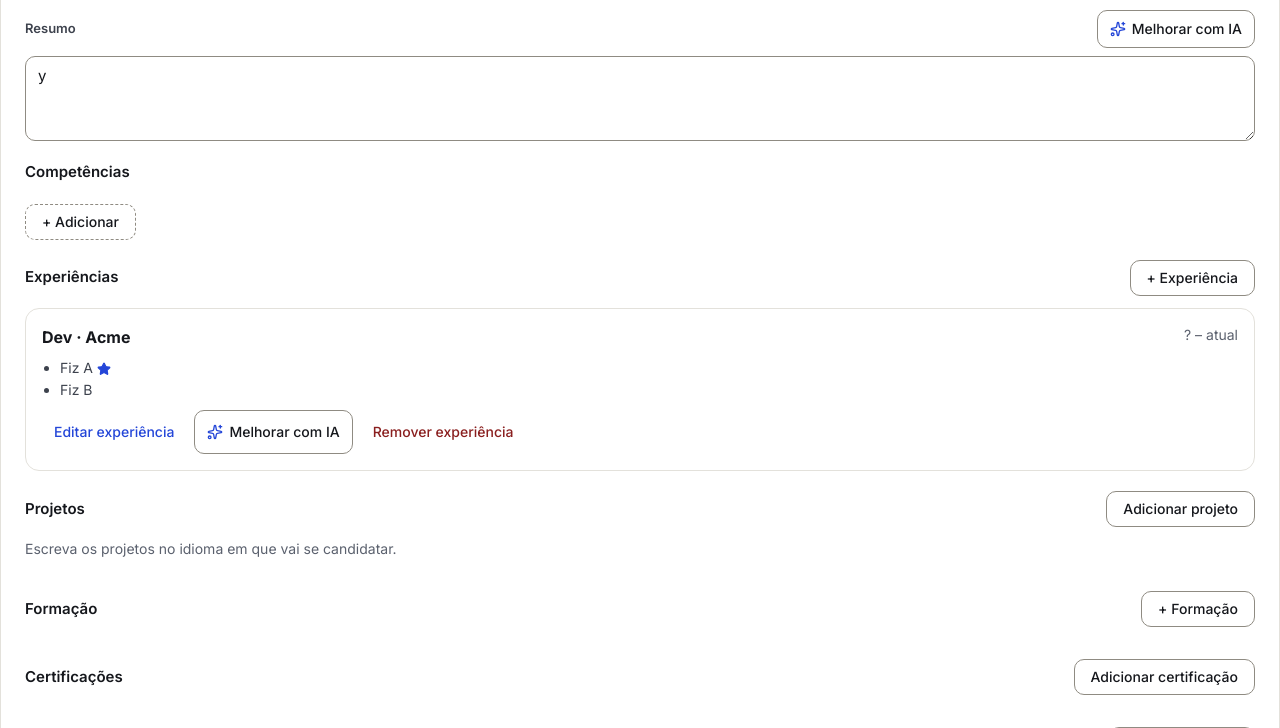
Test: botões do assistente no editor › bullets: a experiência fechada já tem o botão; 'Melhorar' com bullets e 'Escrever' sem eles
The width and height of the screenshot is (1280, 728).
(page scrolled)
Click the button "Editar experiência" at (114, 432), box left=42, top=410, right=186, bottom=454
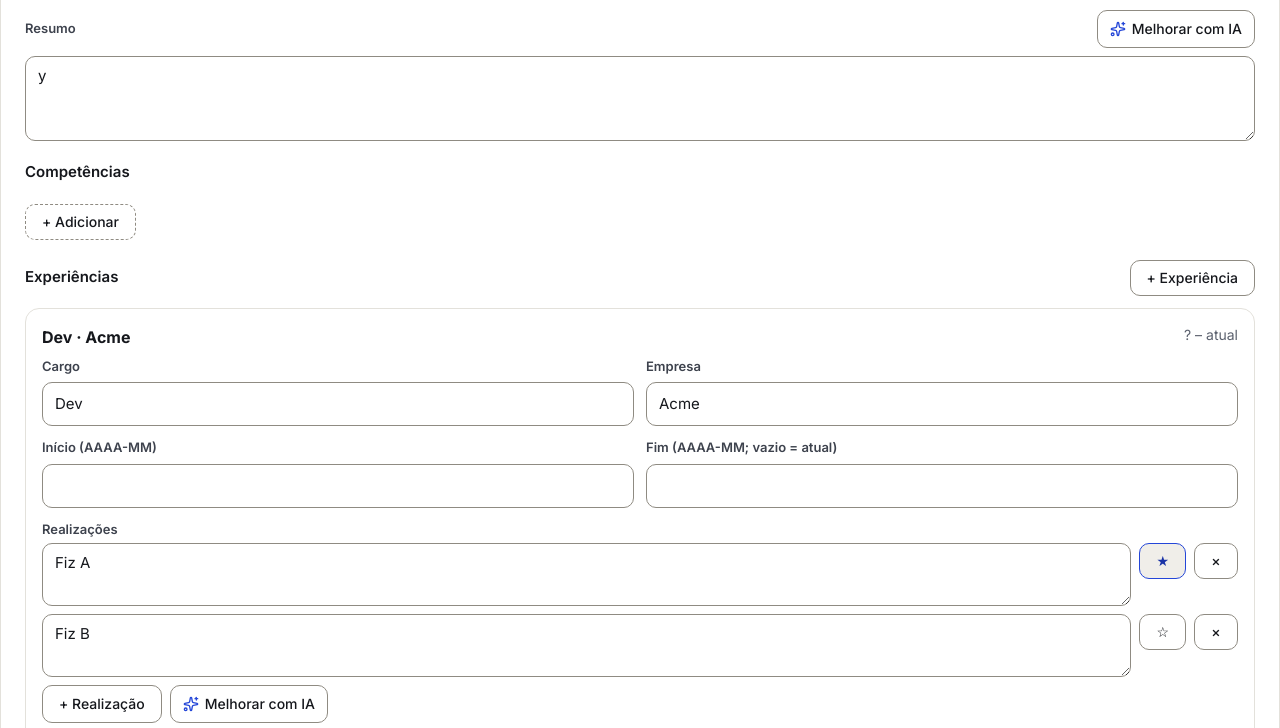
expect the number of buttons "Melhorar com IA" is 3: met
Click the button named "Remover realização 2" at (1216, 632), box left=1194, top=614, right=1238, bottom=650
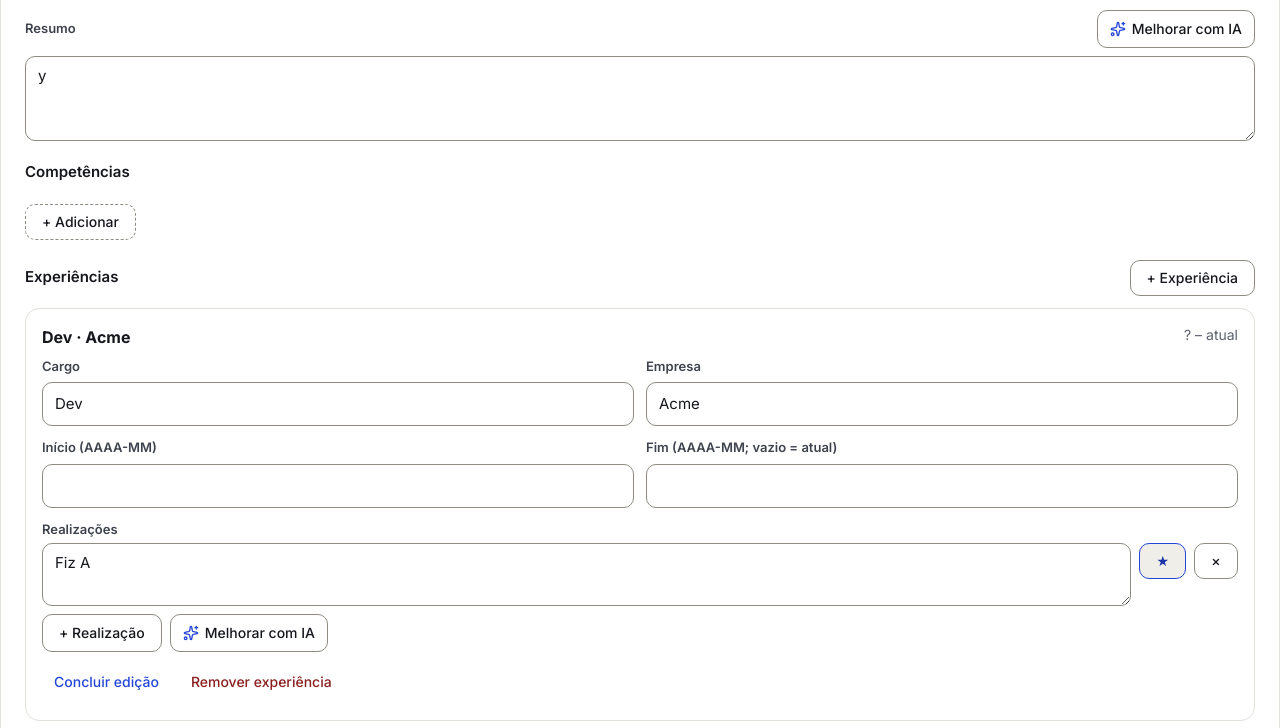
Click the button named "Remover realização 1" at (1216, 561), box left=1194, top=543, right=1238, bottom=579
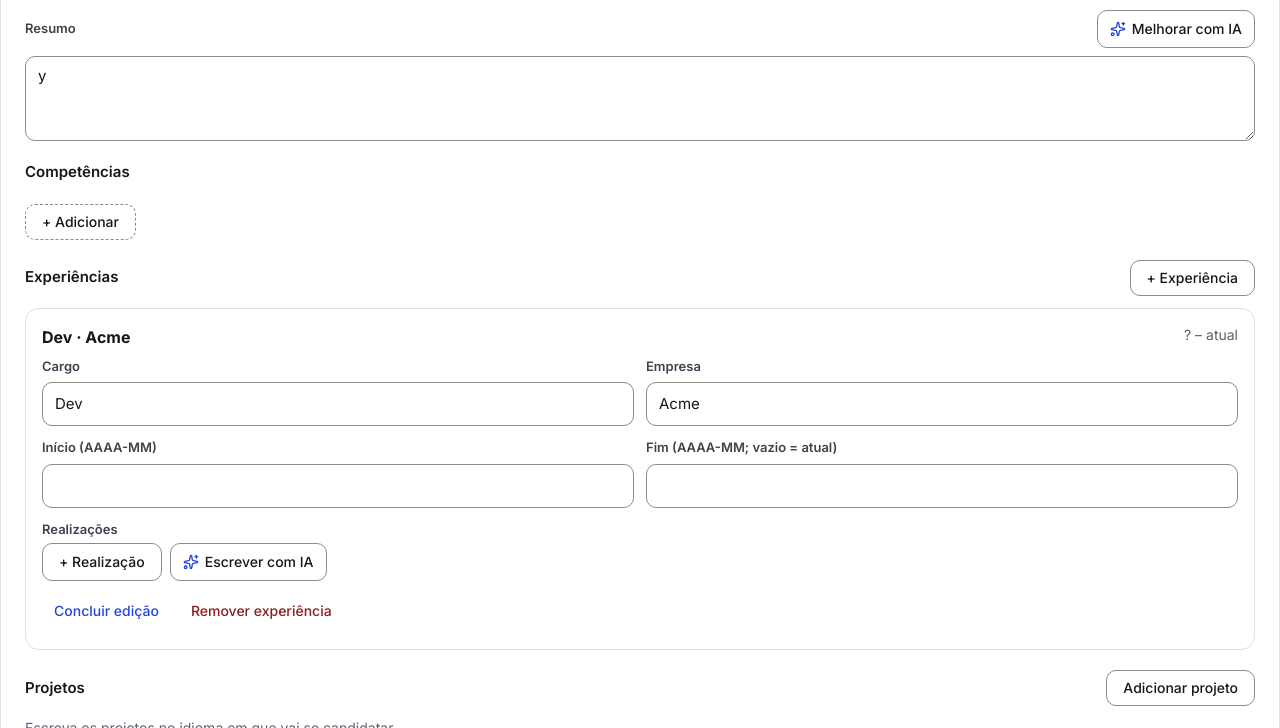
expect the number of buttons "Escrever com IA" is 1: met, box left=170, top=543, right=326, bottom=581
